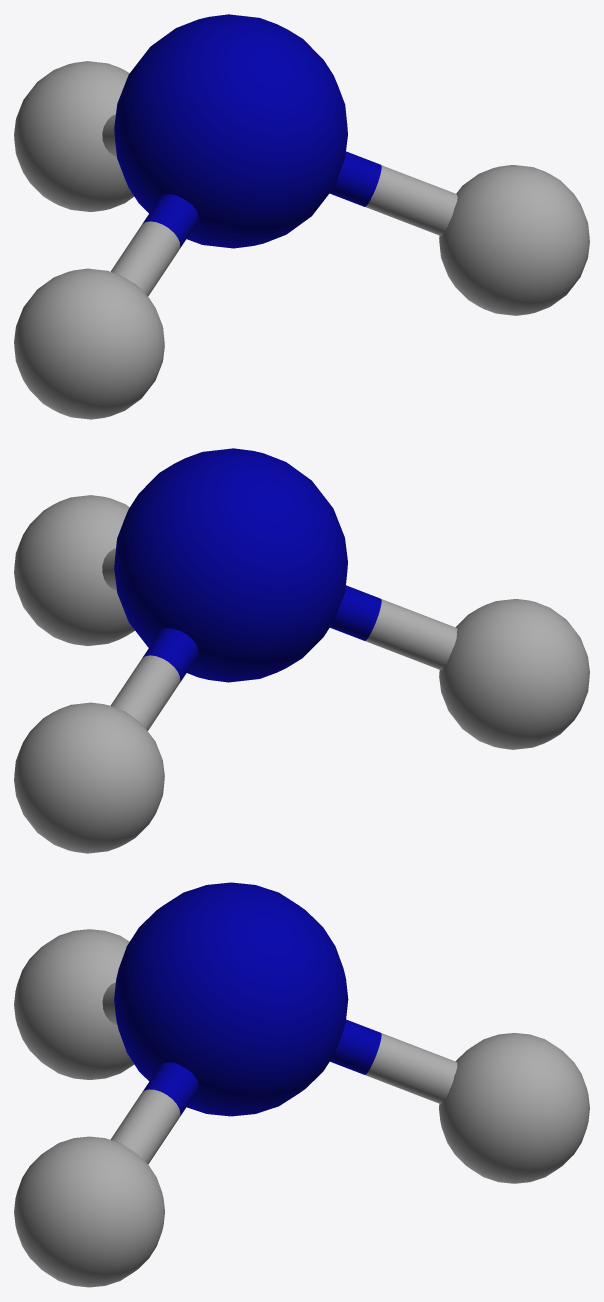
The picture shows the model from 3 angles, top to bottom: view 1: azimuth 30°, elevation 25°; view 2: azimuth 150°, elevation 25°; view 3: azimuth 270°, elevation 25°; orthographic projection.
Parts seen in each view (by area): view 1: vmd_mol0_rep0; view 2: vmd_mol0_rep0; view 3: vmd_mol0_rep0.
Boxes of the visible parts, x1,y1,x2,y2 form: vmd_mol0_rep0: (14, 14, 589, 419); vmd_mol0_rep0: (14, 448, 589, 853); vmd_mol0_rep0: (14, 882, 589, 1287).
Bounding box in the file's own units: 2.12 × 1.03 × 1.91.
